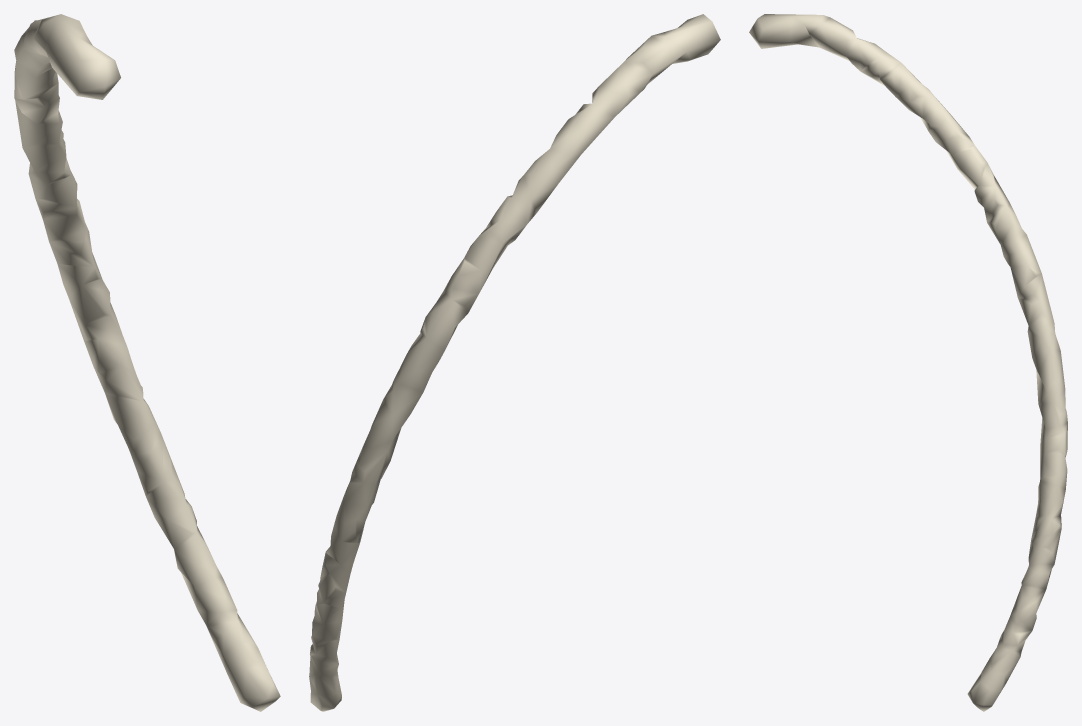
Rendered from rib_11_r.glb.
The picture shows the model from 3 angles, left to right: view 1: azimuth 30°, elevation 25°; view 2: azimuth 150°, elevation 25°; view 3: azimuth 270°, elevation 25°; orthographic projection. The views are drawn at different scales.
Parts seen in each view (by area): view 1: geometry_0; view 2: geometry_0; view 3: geometry_0.
Boxes of the visible parts, left/top/right/bottom form: geometry_0: left=14, top=14, right=280, bottom=711; geometry_0: left=309, top=14, right=720, bottom=711; geometry_0: left=749, top=14, right=1067, bottom=711.
Bounding box in the file's own units: 0.4051 × 0.9211 × 0.4518.
